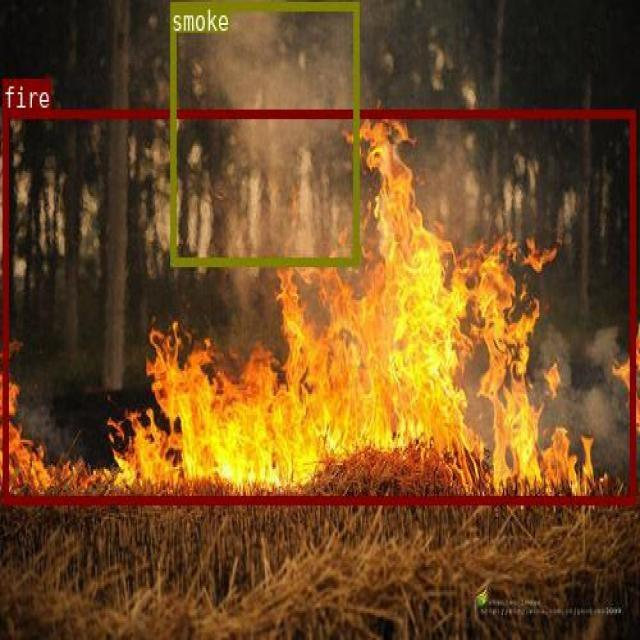fire: (3, 110, 635, 504)
smoke: (170, 1, 358, 264)
